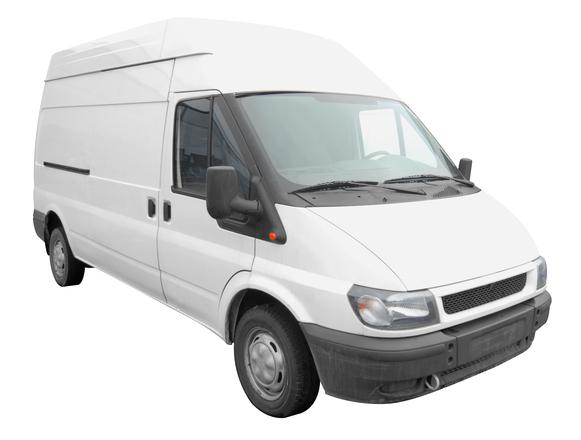car: (29, 17, 552, 427)
